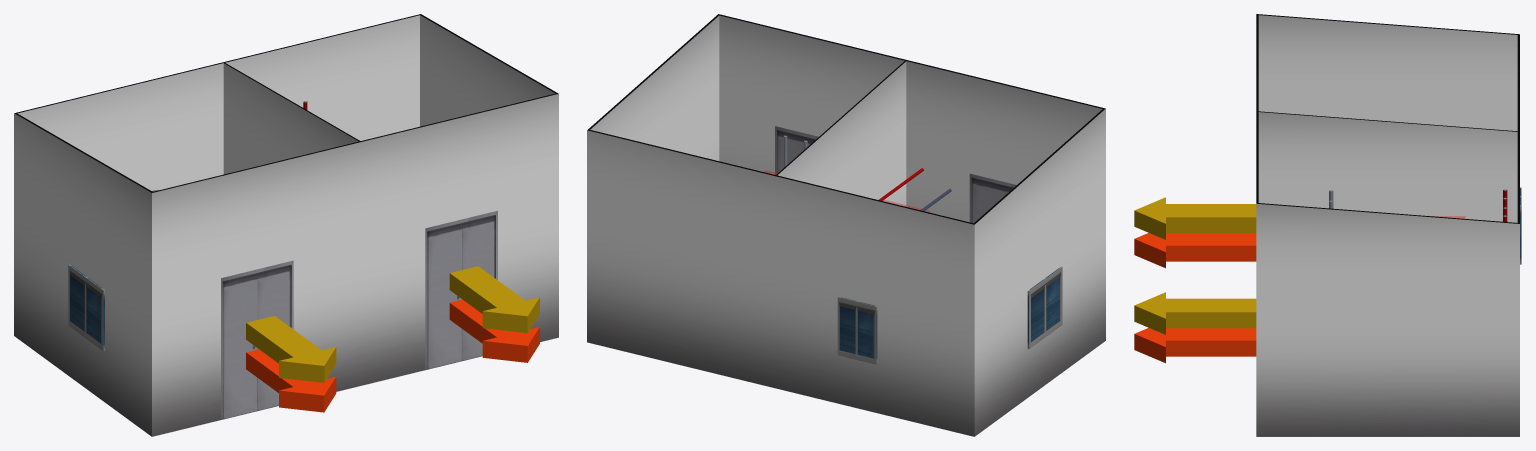
Rendered from soulbrain_T2-4-1F.glb.
3 views of the same model, side by side, from view 1: azimuth 30°, elevation 25°; view 2: azimuth 150°, elevation 25°; view 3: azimuth 270°, elevation 25° (orthographic). The views are drawn at different scales.
Parts seen in each view (by area): view 1: Line643, Box1917, arrow_Y_1_T2-4-1F, arrow_Y_2_T2-4-1F, arrow_R_1_T2-4-1F, arrow_R_2_T2-4-1F, T2-4-1F; view 2: Line643, T2-4-1F, Box1917; view 3: Line643, arrow_Y_1_T2-4-1F, arrow_Y_2_T2-4-1F, arrow_R_1_T2-4-1F, arrow_R_2_T2-4-1F.
Boxes of the visible parts, x1,y1,x2,y2 form: Line643: [14, 14, 558, 436]; Box1917: [221, 210, 497, 419]; arrow_Y_1_T2-4-1F: [449, 266, 539, 333]; arrow_Y_2_T2-4-1F: [246, 316, 336, 382]; arrow_R_1_T2-4-1F: [449, 299, 539, 362]; arrow_R_2_T2-4-1F: [246, 349, 336, 412]; T2-4-1F: [68, 189, 158, 351]; Line643: [587, 14, 1105, 436]; T2-4-1F: [837, 266, 1062, 364]; Box1917: [775, 126, 1016, 223]; Line643: [1256, 14, 1519, 436]; arrow_Y_1_T2-4-1F: [1134, 292, 1256, 334]; arrow_Y_2_T2-4-1F: [1134, 197, 1256, 239]; arrow_R_1_T2-4-1F: [1134, 328, 1256, 363]; arrow_R_2_T2-4-1F: [1134, 233, 1256, 268].
Bounding box in the file's own units: 10.09 × 5.76 × 8.67.
14 materials, 8 textured.
